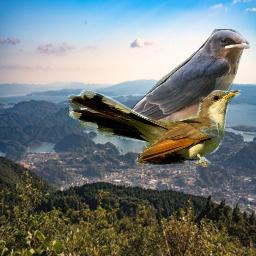Cuckoo: (68, 90, 241, 167)
Swallow: (110, 29, 250, 143)
